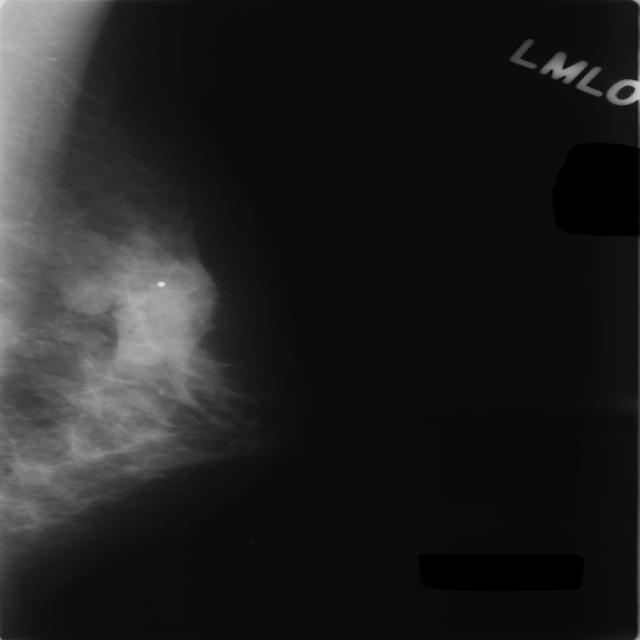tumour: (54, 268, 114, 313)
